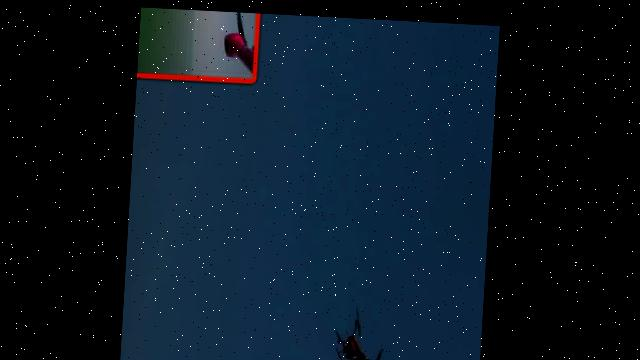drone: (329, 295, 397, 360)
